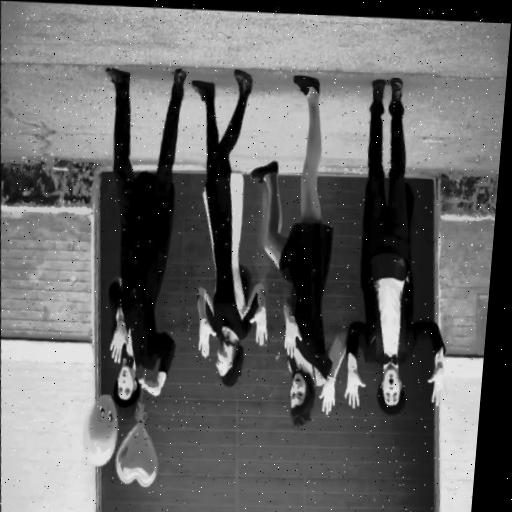balloon: (105, 413, 153, 485), (69, 390, 114, 465)
